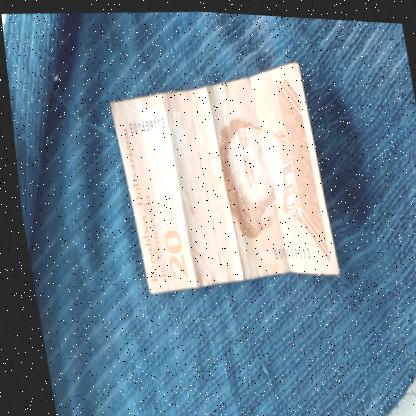twenty-front-vef: (99, 48, 339, 302)
